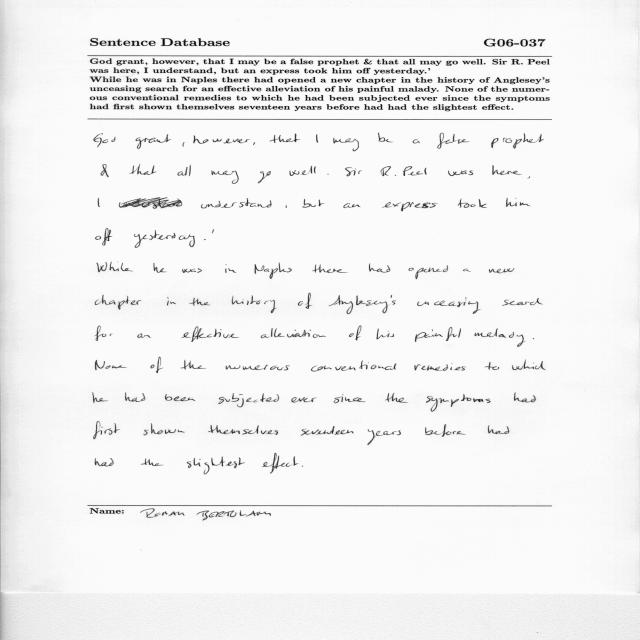word: (329, 295, 396, 314), (426, 394, 491, 412), (134, 230, 195, 248), (417, 297, 481, 314), (187, 457, 245, 475), (311, 361, 396, 372), (181, 326, 239, 342), (475, 329, 526, 347), (218, 393, 279, 407), (491, 133, 544, 149), (232, 296, 277, 313), (262, 453, 298, 474), (458, 198, 531, 208), (208, 425, 278, 435), (119, 198, 182, 209), (95, 295, 141, 310), (415, 327, 461, 342), (261, 328, 326, 338), (255, 262, 292, 279), (408, 265, 448, 279), (367, 429, 401, 445), (425, 424, 466, 437), (136, 134, 171, 149), (301, 426, 353, 436), (194, 135, 251, 144), (437, 133, 469, 149), (221, 198, 272, 208), (143, 424, 185, 436), (383, 202, 438, 211), (94, 422, 120, 440), (415, 363, 466, 371), (212, 170, 239, 184), (333, 138, 359, 152), (512, 359, 545, 370), (97, 262, 133, 272), (286, 199, 325, 208), (502, 298, 543, 306), (312, 264, 348, 273), (95, 360, 127, 370), (226, 365, 290, 370), (130, 164, 157, 175), (94, 133, 115, 147), (493, 165, 522, 175), (96, 229, 113, 246), (334, 395, 366, 404), (270, 134, 300, 143), (289, 166, 316, 176), (95, 326, 113, 341), (181, 360, 206, 370), (403, 166, 426, 176), (385, 393, 408, 403), (298, 293, 312, 309), (514, 393, 536, 403), (165, 394, 195, 401), (125, 392, 145, 402), (376, 329, 394, 340), (151, 357, 163, 373), (369, 264, 390, 273), (488, 425, 509, 434), (141, 458, 163, 466), (95, 458, 114, 467), (349, 326, 361, 340), (93, 392, 108, 403), (190, 298, 210, 306), (258, 171, 271, 183), (291, 397, 317, 403), (177, 165, 191, 176), (345, 167, 362, 176), (381, 166, 396, 176), (201, 201, 221, 208), (153, 263, 167, 273), (378, 133, 393, 142), (448, 171, 474, 176), (485, 361, 499, 370), (489, 268, 514, 273), (101, 165, 109, 178), (182, 268, 202, 273), (225, 264, 236, 273), (343, 203, 361, 208), (167, 297, 176, 306), (137, 334, 151, 338), (413, 139, 420, 143), (463, 269, 471, 272), (316, 134, 318, 143), (98, 198, 100, 207), (183, 142, 185, 147), (527, 176, 530, 179), (212, 230, 214, 234), (253, 143, 255, 146), (327, 174, 329, 175), (204, 239, 206, 240), (533, 339, 534, 340), (302, 466, 303, 467)
